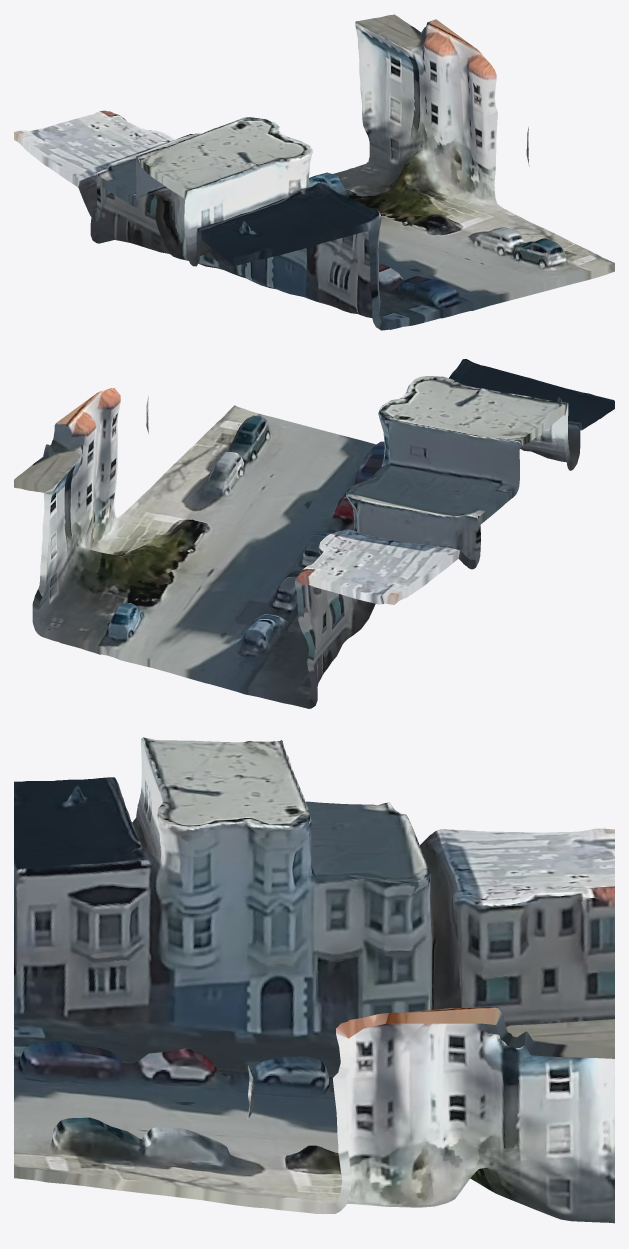
Rendered from z20-167745-405195-h0-yup-uvflip-v3-world.glb.
3 renders of one model, top to bottom at view 1: azimuth 30°, elevation 25°; view 2: azimuth 150°, elevation 25°; view 3: azimuth 270°, elevation 25°, orthographic. The views are drawn at different scales.
Bounding box in the file's own units: 30.16 × 15.4 × 30.32.
1 material, 1 textured.
